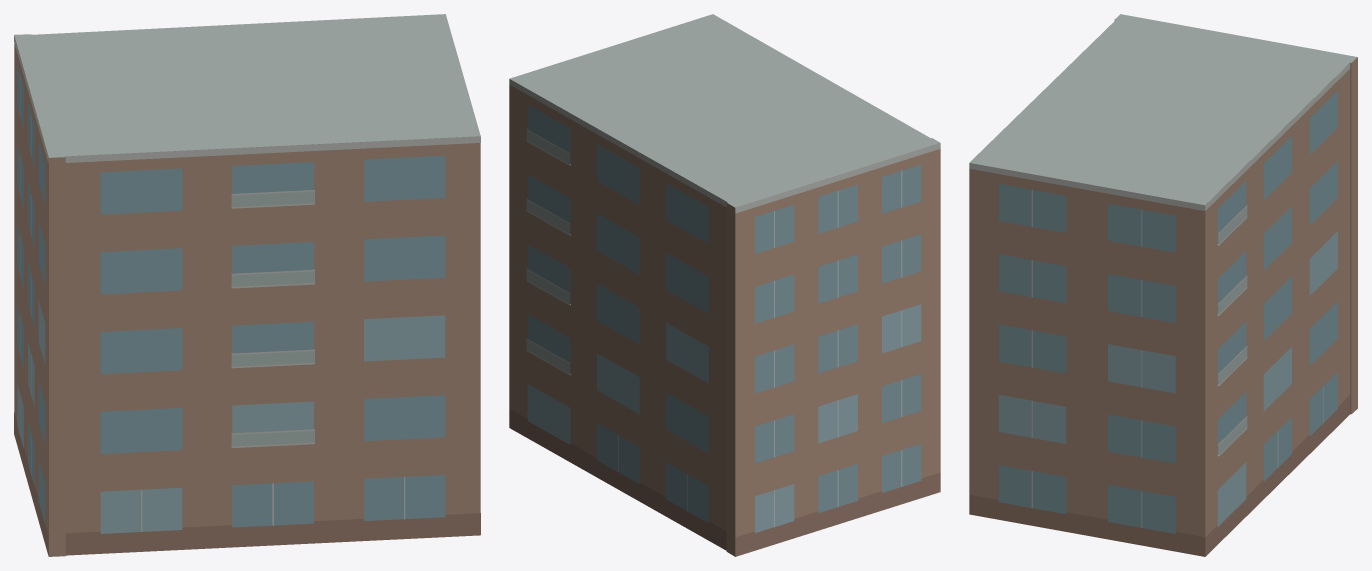
Rendered from survey-upis-32844549.glb.
The picture shows the model from 3 angles, left to right: view 1: azimuth 30°, elevation 25°; view 2: azimuth 150°, elevation 25°; view 3: azimuth 270°, elevation 25°; orthographic projection. The views are drawn at different scales.
Parts seen in each view (by area): view 1: survey-upis-32844549.tmp; view 2: survey-upis-32844549.tmp; view 3: survey-upis-32844549.tmp.
Boxes of the visible parts, x1,y1,x2,y2 form: survey-upis-32844549.tmp: (14,14,480,556); survey-upis-32844549.tmp: (509,14,940,556); survey-upis-32844549.tmp: (969,14,1357,556).
Size of the model in its own units: 17.05 by 14.6 by 14.63.
